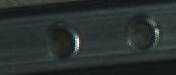joints: (41, 18, 82, 61), (123, 12, 161, 52)
